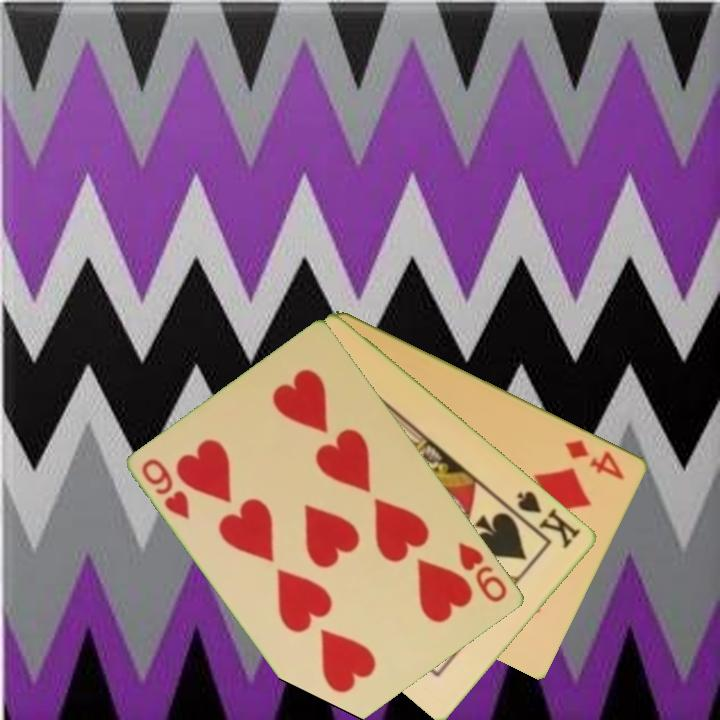4d: (562, 435, 628, 483)
9h: (455, 539, 511, 606), (138, 455, 194, 522)
Ks: (514, 487, 584, 552)
